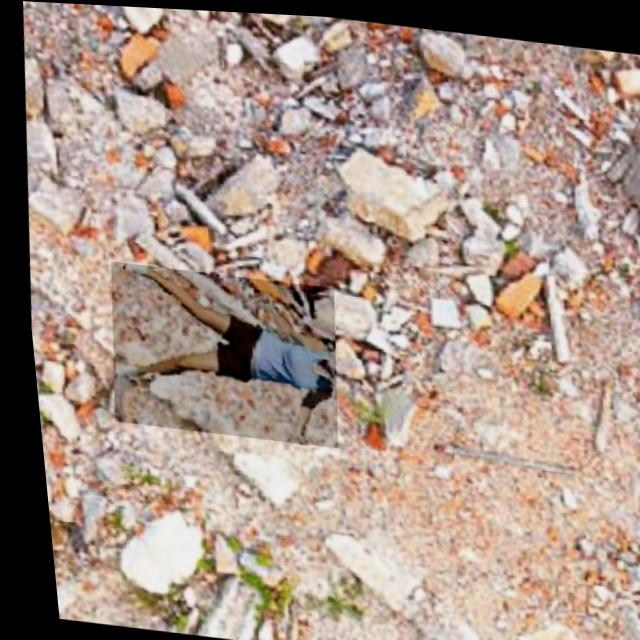Person in Rubble: (93, 259, 339, 445)
